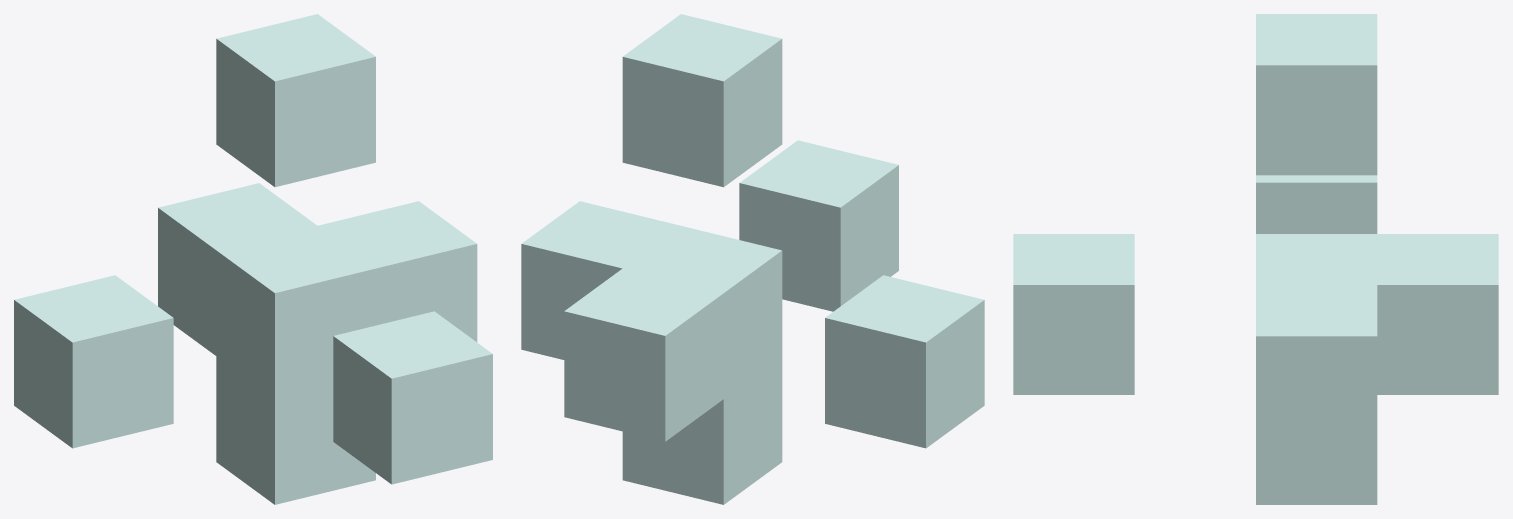
File: llama_spit.gltf
The picture shows the model from 3 angles, left to right: view 1: azimuth 30°, elevation 25°; view 2: azimuth 150°, elevation 25°; view 3: azimuth 270°, elevation 25°; orthographic projection. The views are drawn at different scales.
Visible parts, largest first — view 1: body_rotation (×7); view 2: body_rotation (×7); view 3: body_rotation (×7).
Boxes of the visible parts, <box> form: body_rotation (×7): <box>14,14,492,504</box>; body_rotation (×7): <box>521,14,984,504</box>; body_rotation (×7): <box>1013,14,1498,504</box>.
Size of the model in its own units: 0.5 by 0.5 by 0.5.
1 material, 1 textured.
